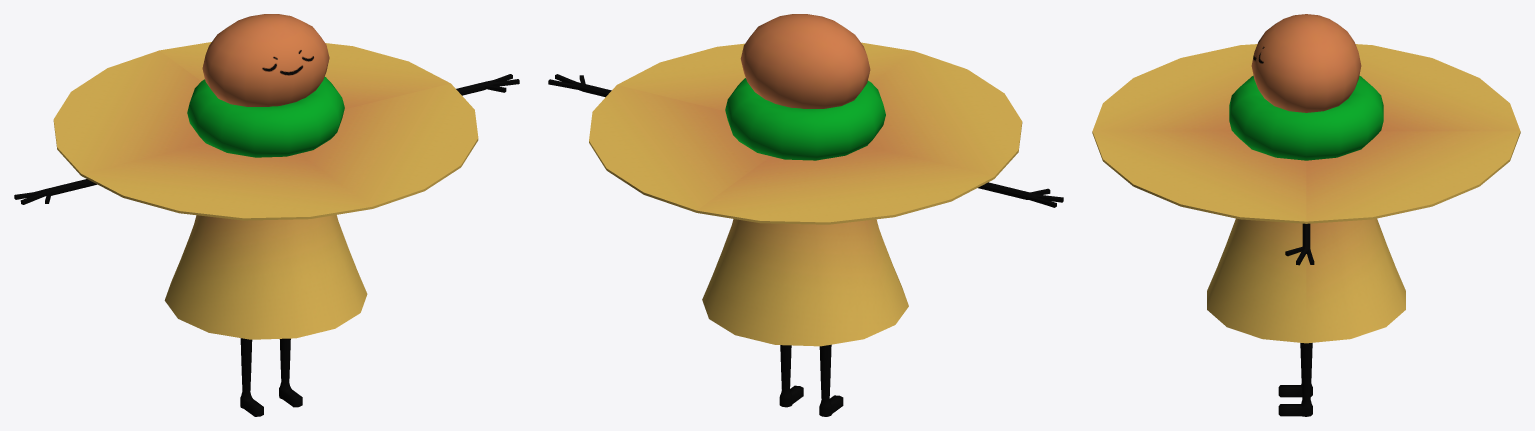
File: MSH_napkintest.fbx
3 views of the same model, side by side, from view 1: azimuth 30°, elevation 25°; view 2: azimuth 150°, elevation 25°; view 3: azimuth 270°, elevation 25° (orthographic). The views are drawn at different scales.
Visible parts, largest first — view 1: poncho_v2, poncho, head1, neckthingy, R_leg, L_leg, R_arm, L_arm; view 2: poncho_v2, poncho, head1, neckthingy, R_leg, L_leg, R_arm, L_arm; view 3: poncho_v2, poncho, head1, neckthingy, L_leg, L_arm.
Part boxes in pixels (box(x1,y1,x2,y2)): poncho_v2: box(53, 42, 478, 220); poncho: box(164, 215, 367, 339); head1: box(202, 14, 329, 106); neckthingy: box(187, 77, 344, 157); R_leg: box(240, 338, 263, 416); L_leg: box(279, 338, 302, 407); R_arm: box(14, 179, 96, 204); L_arm: box(456, 74, 519, 95); poncho_v2: box(589, 42, 1022, 224); poncho: box(702, 219, 908, 346); head1: box(740, 14, 870, 108); neckthingy: box(725, 78, 885, 160); R_leg: box(819, 344, 843, 416); L_leg: box(779, 345, 803, 407); R_arm: box(978, 182, 1063, 207); L_arm: box(548, 74, 611, 97); poncho_v2: box(1092, 44, 1520, 223); poncho: box(1207, 218, 1405, 343); head1: box(1251, 14, 1361, 112); neckthingy: box(1229, 75, 1383, 160); L_leg: box(1278, 343, 1312, 416); L_arm: box(1285, 223, 1314, 265).
Bounding box in the file's own units: 2.69 × 1.97 × 2.
